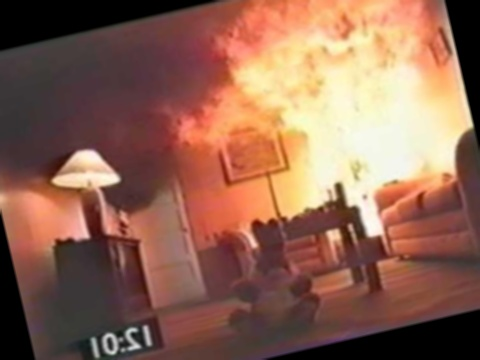fire: (233, 0, 477, 200)
smoke: (0, 11, 229, 176)
